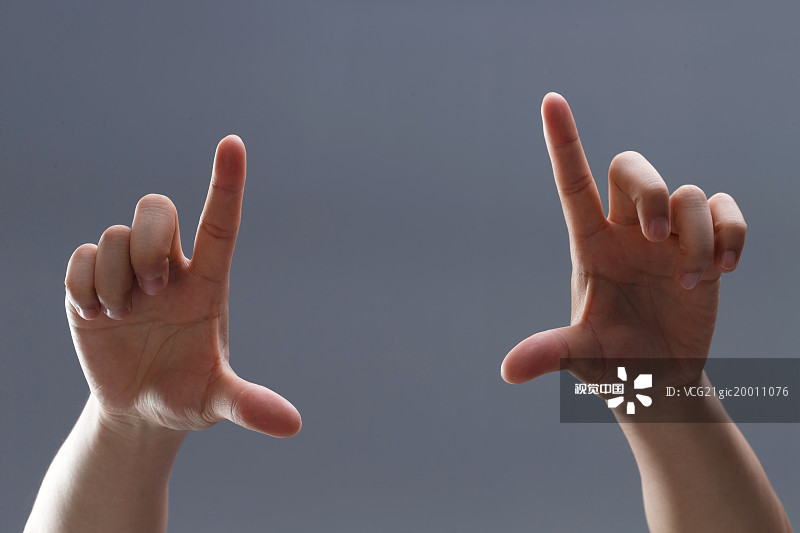no-phone: (493, 62, 761, 432), (34, 118, 314, 452)
